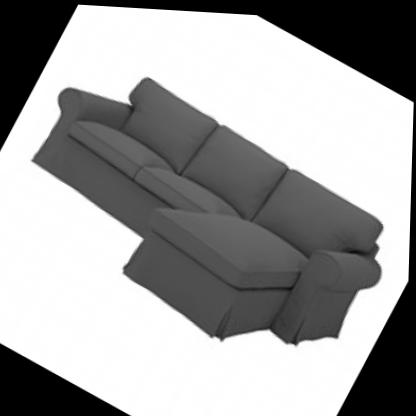Sofa: (0, 21, 416, 400)
